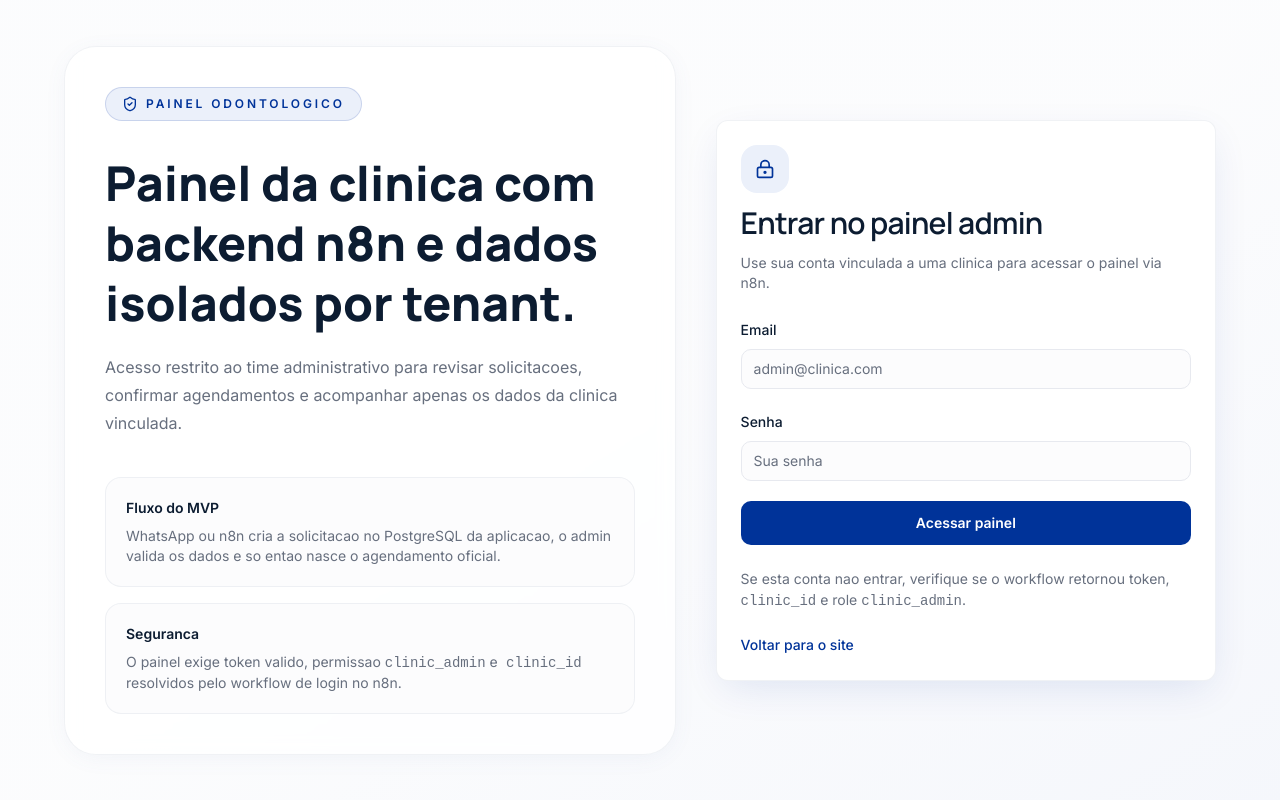
Test: AdminLogin › shows the backend error when the login fails
Click the button "Acessar painel" at (966, 522), box [741,500,1191,544]
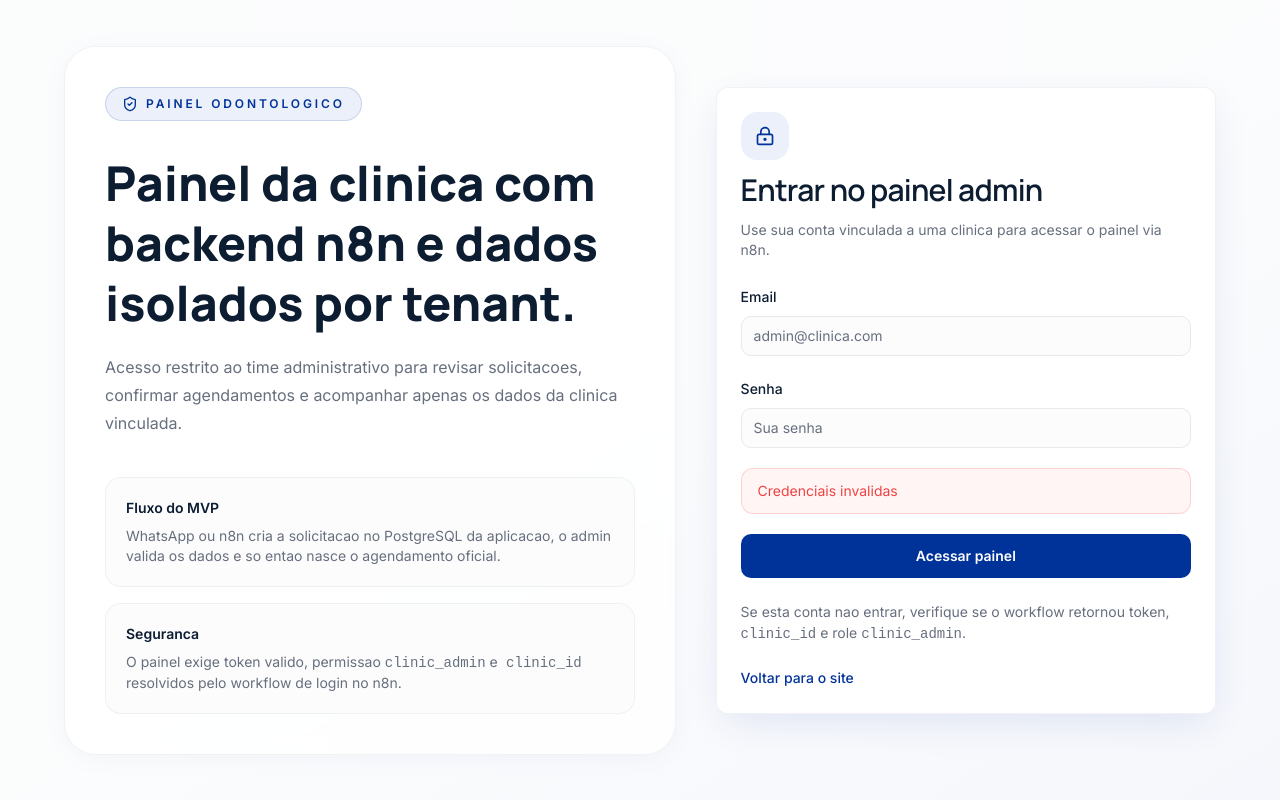
expect the text "Credenciais invalidas" is shown: met, box [741,468,1191,514]
